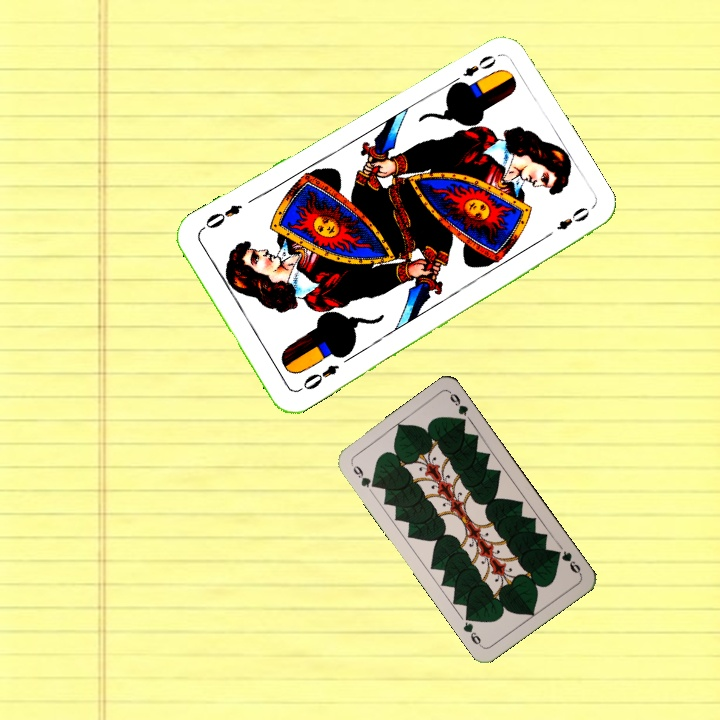EO: (446, 50, 499, 89), (294, 360, 342, 395)
G9: (550, 546, 584, 578), (347, 460, 380, 491)
